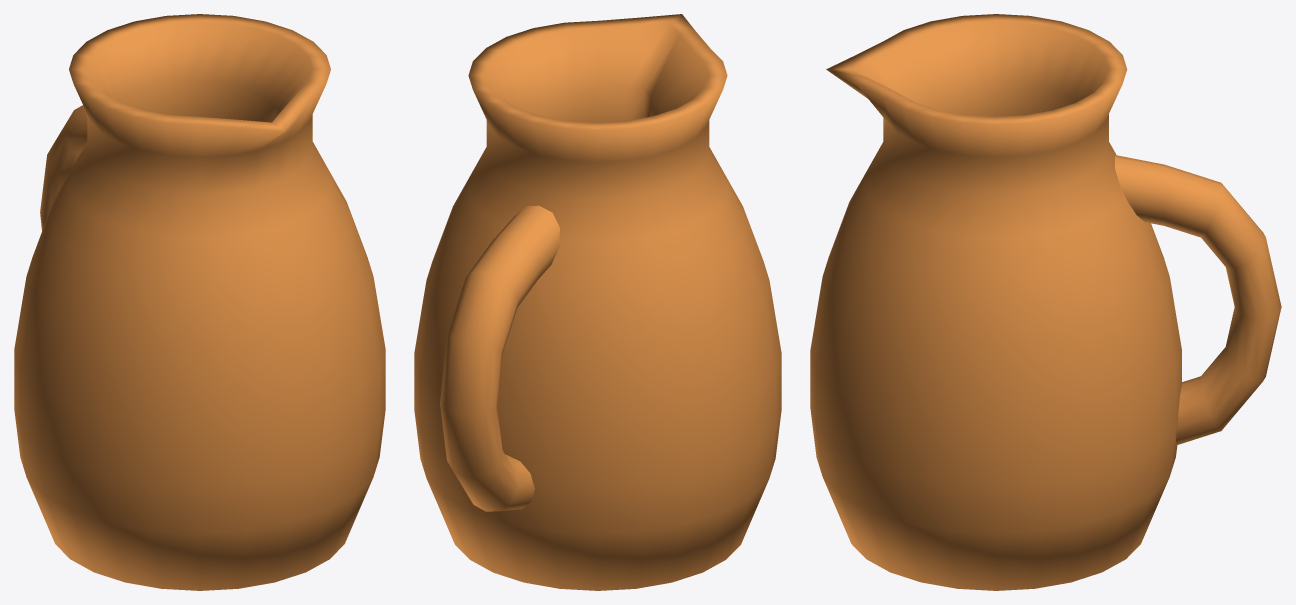
Rendered from pitcher.fbx.
The picture shows the model from 3 angles, left to right: view 1: azimuth 30°, elevation 25°; view 2: azimuth 150°, elevation 25°; view 3: azimuth 270°, elevation 25°; orthographic projection.
Parts seen in each view (by area): view 1: Pitcher; view 2: Pitcher; view 3: Pitcher.
Part boxes in pixels (bbox=[...]): Pitcher: bbox=[14, 14, 385, 590]; Pitcher: bbox=[414, 14, 781, 590]; Pitcher: bbox=[810, 14, 1281, 590].
Size of the model in its own units: 24.12 by 30.58 by 32.81.
